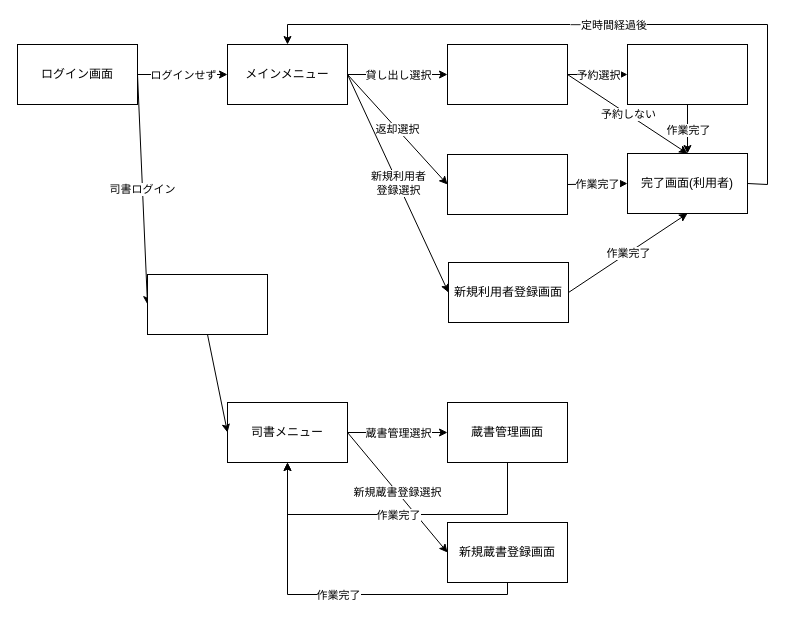
The diagram is 793 pixels wide and 620 high, and some of its shapes have lost their labels. Here are the shapes that lost their labels. From the top down, the centre of each, then its label:
the point at 507,74: 貸し出し画面
the point at 687,74: 予約画面
the point at 507,184: 返却画面
the point at 207,304: 二段階認証画面
